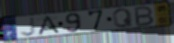7: (87, 9, 104, 31)
9: (65, 12, 83, 34)
A: (37, 15, 62, 36)
B: (134, 5, 156, 28)
J: (20, 16, 37, 38)
Q: (112, 8, 135, 29)
